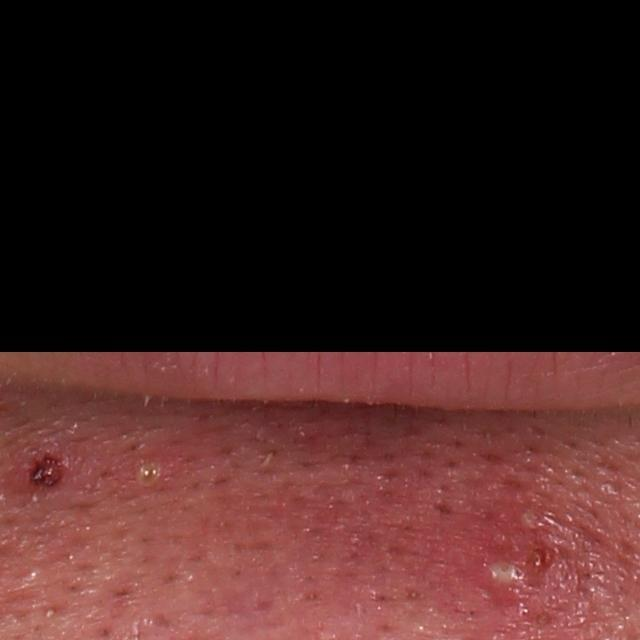pustule: (116, 435, 178, 497), (476, 547, 539, 608), (517, 502, 545, 534)
